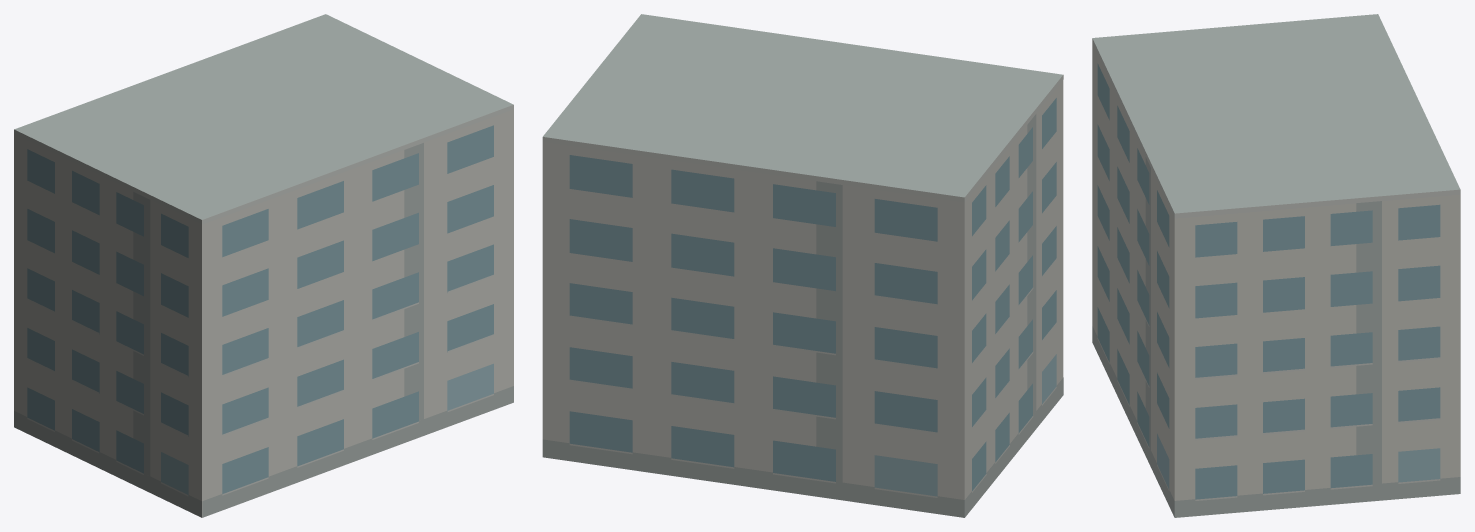
Rendered from residential-d09ffbdb-d71d-4f4e-be68-63d7d150983b.glb.
3 views of the same model, side by side, from view 1: azimuth 30°, elevation 25°; view 2: azimuth 150°, elevation 25°; view 3: azimuth 270°, elevation 25° (orthographic). The views are drawn at different scales.
Parts seen in each view (by area): view 1: residential-d09ffbdb-d71d-4f4e-be68-63d7d150983b.tmp; view 2: residential-d09ffbdb-d71d-4f4e-be68-63d7d150983b.tmp; view 3: residential-d09ffbdb-d71d-4f4e-be68-63d7d150983b.tmp.
Boxes of the visible parts, left/top/right/bottom form: residential-d09ffbdb-d71d-4f4e-be68-63d7d150983b.tmp: left=14, top=14, right=513, bottom=517; residential-d09ffbdb-d71d-4f4e-be68-63d7d150983b.tmp: left=542, top=14, right=1063, bottom=517; residential-d09ffbdb-d71d-4f4e-be68-63d7d150983b.tmp: left=1092, top=14, right=1460, bottom=517.
Bounding box in the file's own units: 21.45 × 15.25 × 16.73.
